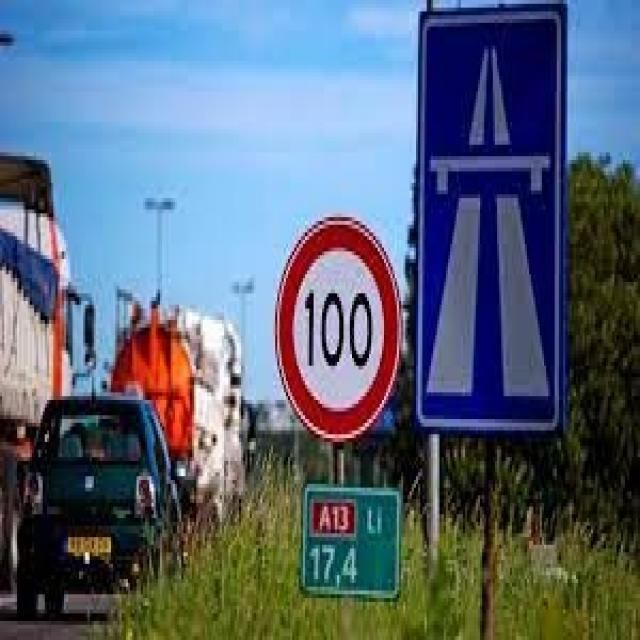speed_limit_100: (273, 204, 404, 444)
